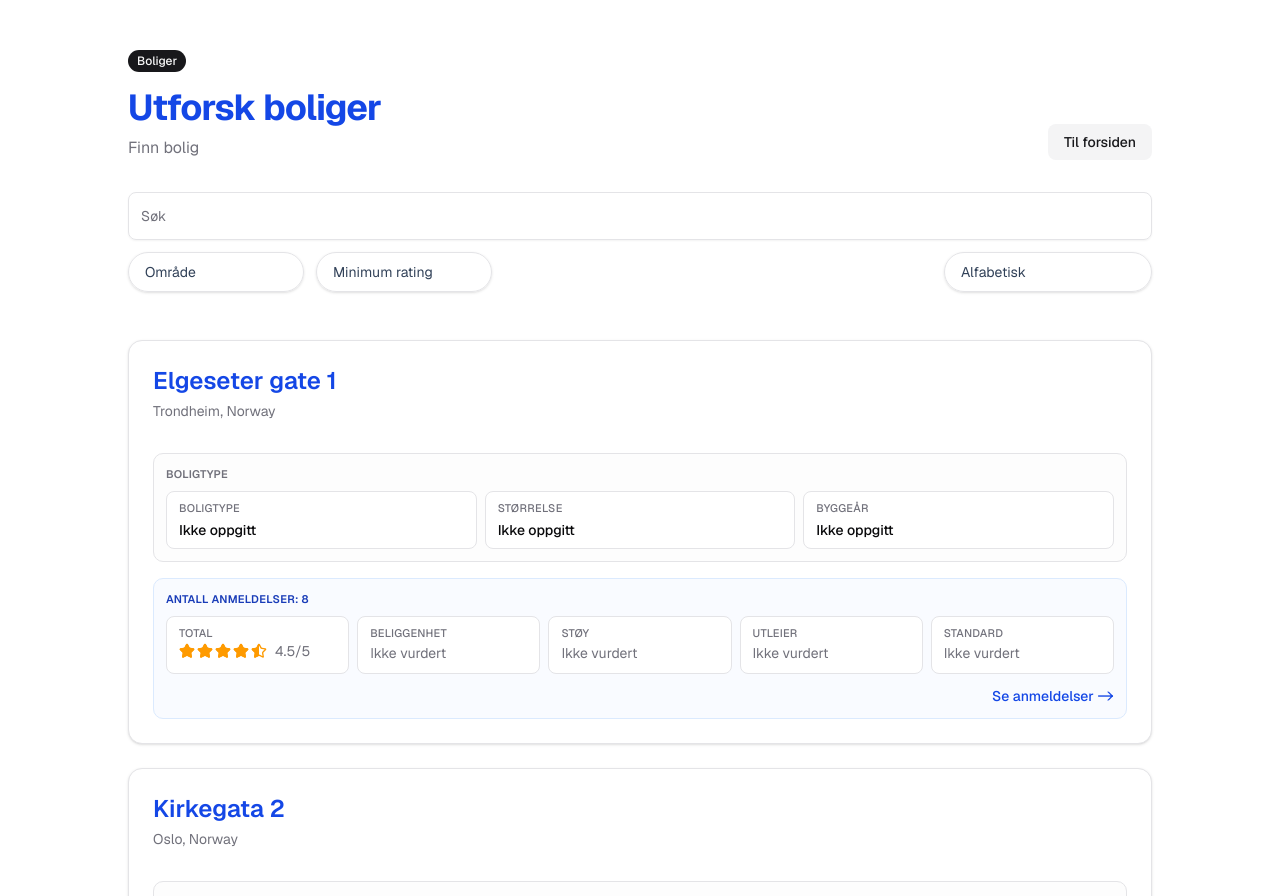
Scenario: PropertiesClient filters › shows empty state when no match and resets all filters
Select "Oslo" in the dropdown named "Område": [216, 272] box [128, 252, 304, 292]
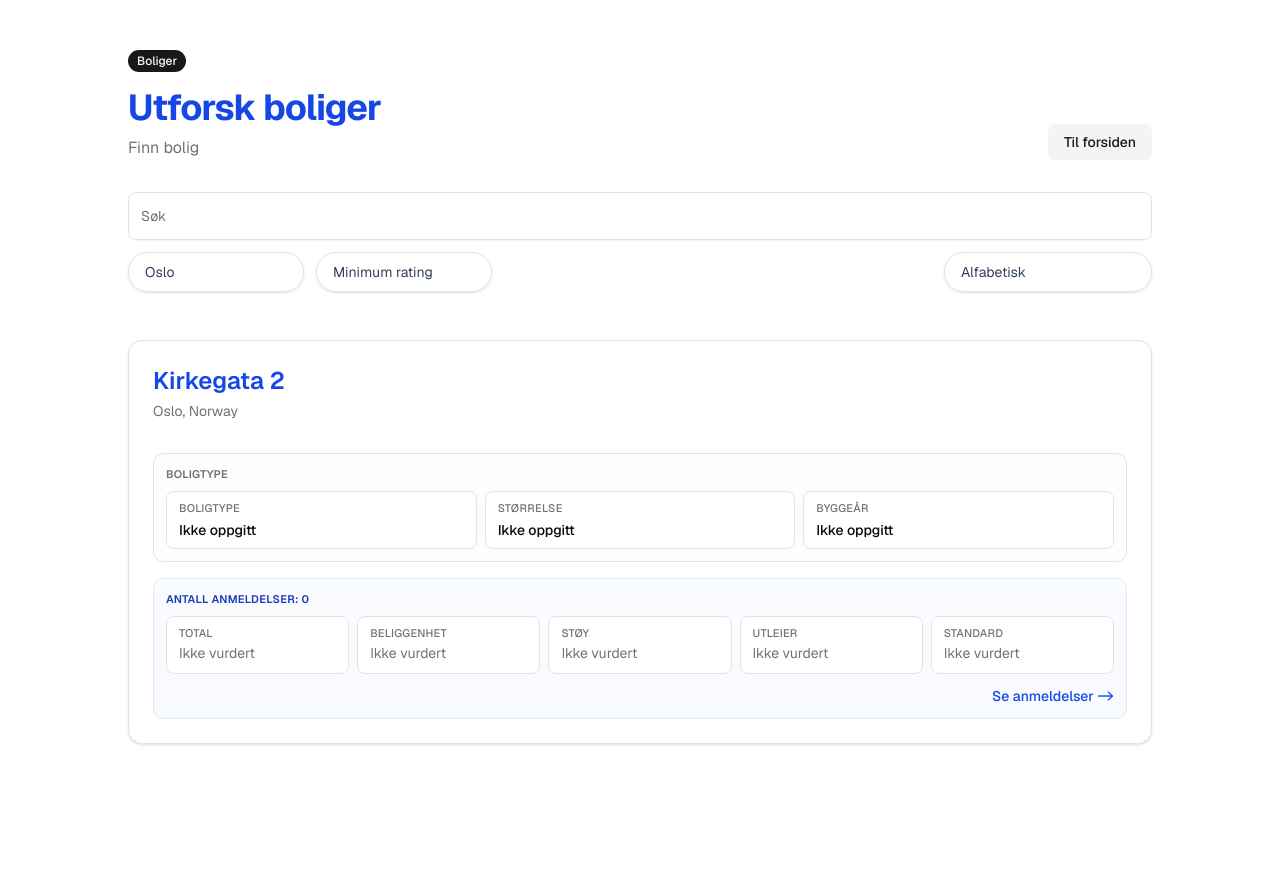
Select "5.0 stjerner" in the dropdown named "Minimum rating": [404, 272] box [316, 252, 492, 292]
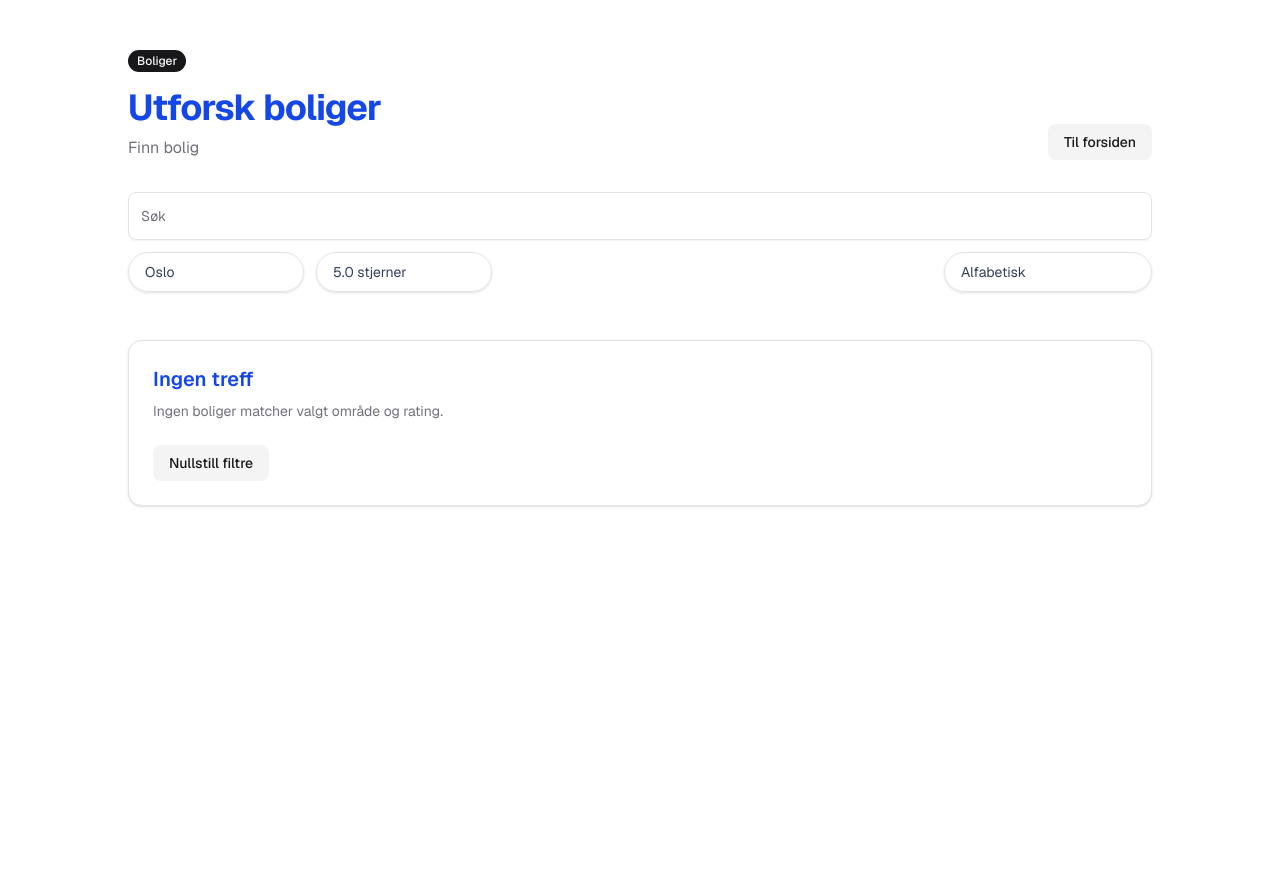
Now the text "Ingen treff" is shown, box [153, 366, 254, 392]
Now the text "Ingen boliger matcher valgt område og rating." is shown, box [153, 402, 443, 420]
Click the button "Nullstill filtre": [211, 463] box [153, 445, 269, 481]
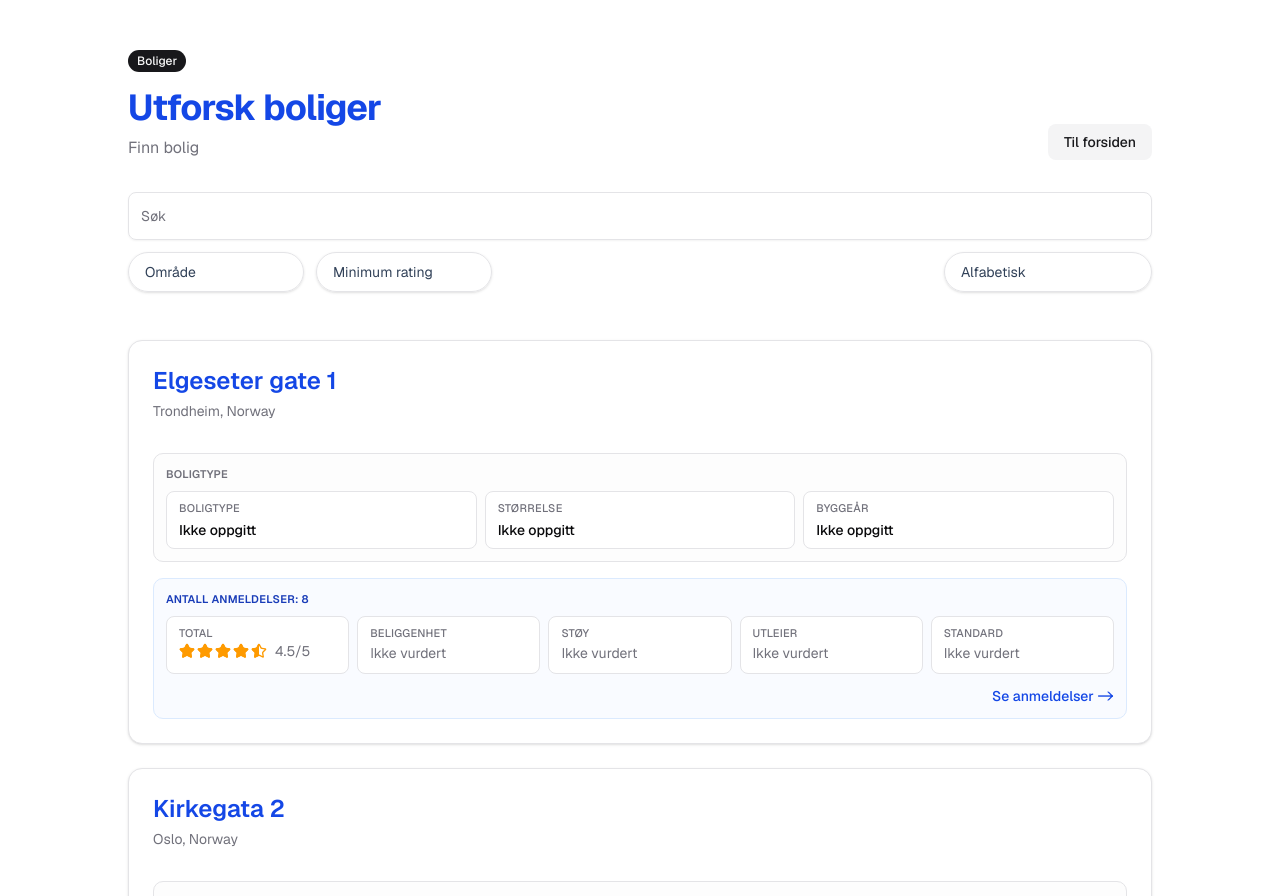
Now the link "Elgeseter gate 1" is shown, box [153, 365, 337, 396]
Now the link "Kirkegata 2" is shown, box [153, 793, 285, 824]
